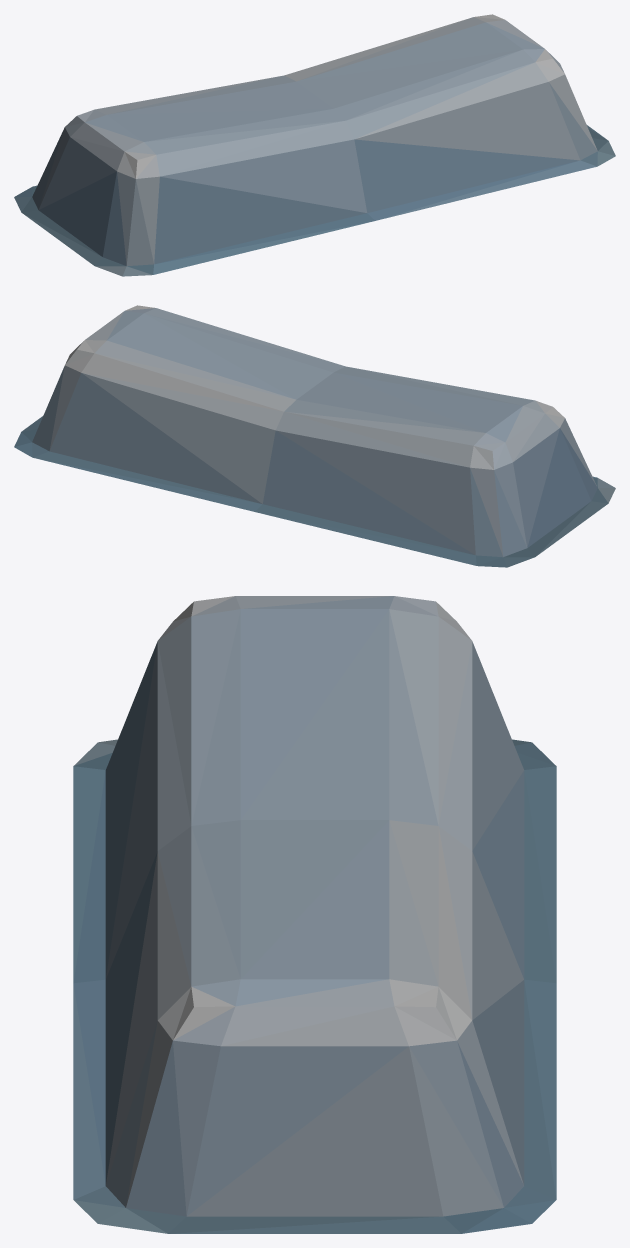
The model's file is prop_treasure_ingot_silver.fbx.
The picture shows the model from 3 angles, top to bottom: view 1: azimuth 30°, elevation 25°; view 2: azimuth 150°, elevation 25°; view 3: azimuth 270°, elevation 25°; orthographic projection. The views are drawn at different scales.
Visible parts, largest first — view 1: prop_treasure_ingot_silver; view 2: prop_treasure_ingot_silver; view 3: prop_treasure_ingot_silver.
Boxes of the visible parts, x1,y1,x2,y2 form: prop_treasure_ingot_silver: [14, 14, 615, 276]; prop_treasure_ingot_silver: [14, 305, 615, 567]; prop_treasure_ingot_silver: [73, 596, 556, 1233].
Size of the model in its own units: 0.733 by 0.1289 by 0.2983.
